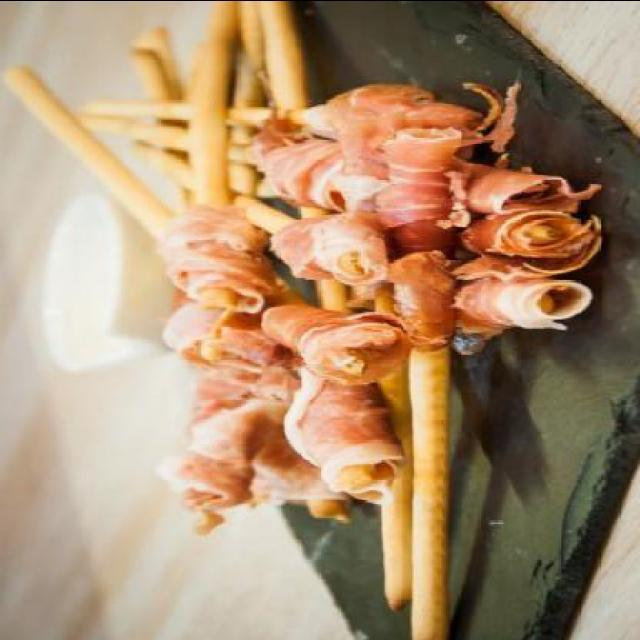Grissini: (58, 24, 576, 618)
